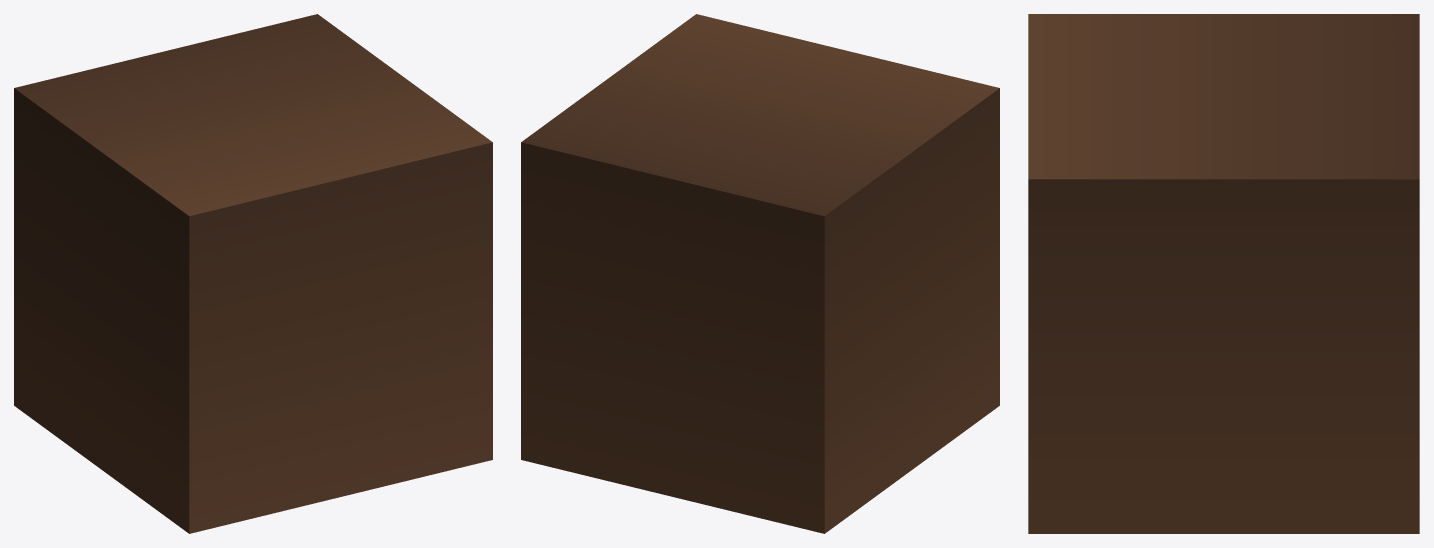
File: PRP_Crate.glb
3 renders of one model, left to right at view 1: azimuth 30°, elevation 25°; view 2: azimuth 150°, elevation 25°; view 3: azimuth 270°, elevation 25°, orthographic. The views are drawn at different scales.
Visible parts, largest first — view 1: PRP_Crate; view 2: PRP_Crate; view 3: PRP_Crate.
Part boxes in pixels (<box>): PRP_Crate: <box>14,14,492,533</box>; PRP_Crate: <box>521,14,999,533</box>; PRP_Crate: <box>1028,14,1419,533</box>.
Size of the model in its own units: 0.9 by 0.9 by 0.9.
1 material, 1 textured.
